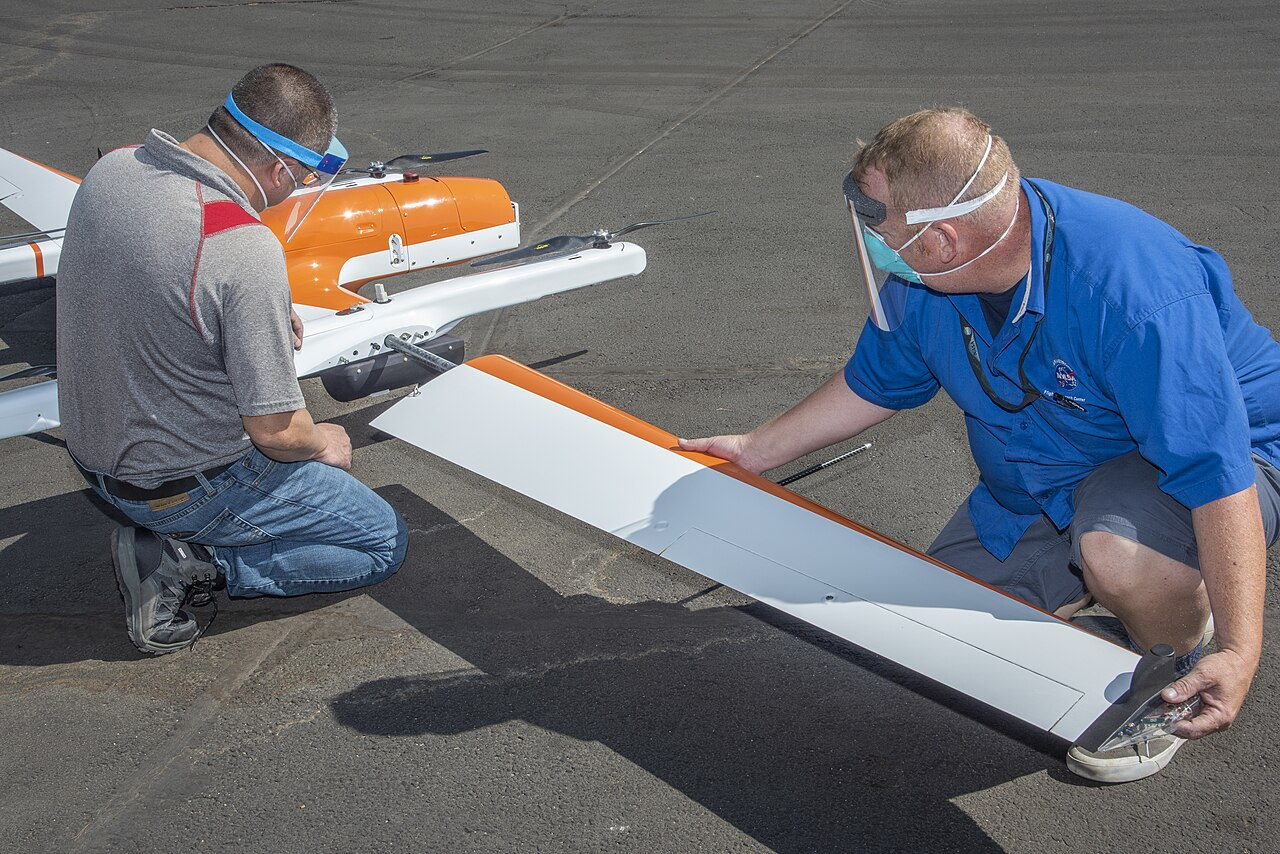drone: (0, 132, 1184, 747)
